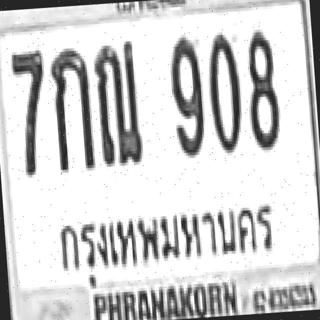A01: (48, 44, 94, 170)
A19: (92, 38, 142, 164)
N00: (205, 31, 242, 151)
N07: (9, 48, 49, 176), (10, 47, 48, 150)
N08: (243, 28, 280, 148)
N09: (166, 34, 205, 156)
P04: (52, 200, 278, 273)
